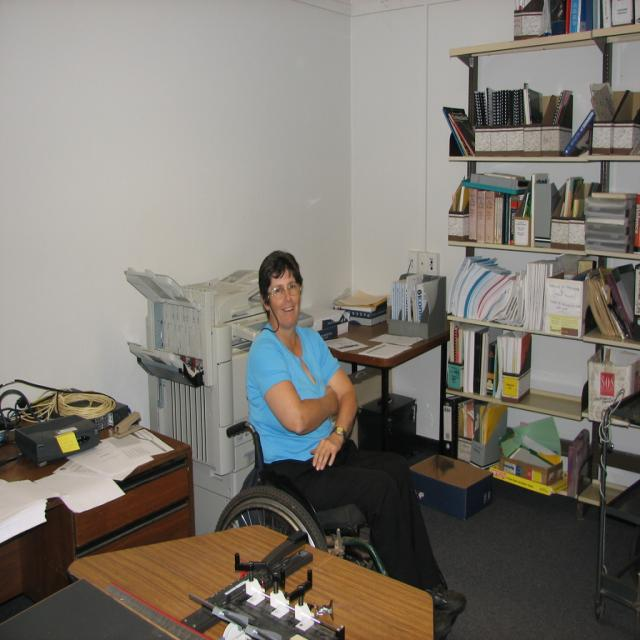chair: (215, 417, 381, 565)
desk: (322, 306, 450, 457)
person: (244, 249, 466, 633)
